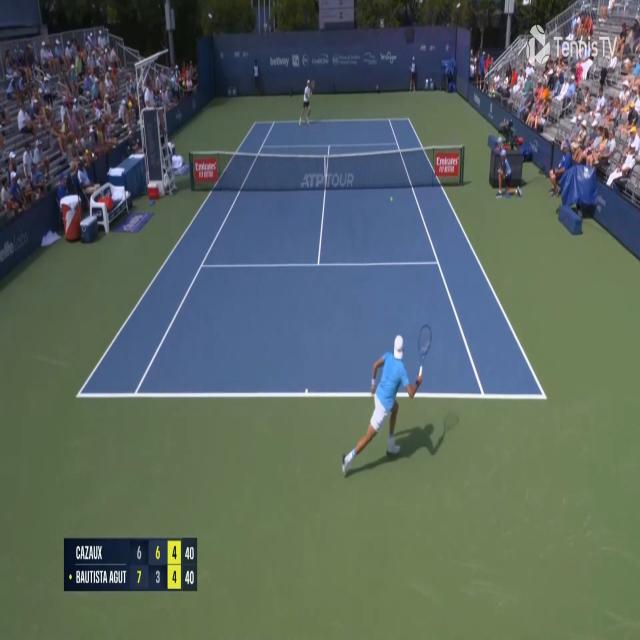tennis-player: (341, 331, 425, 480), (299, 78, 315, 126)
